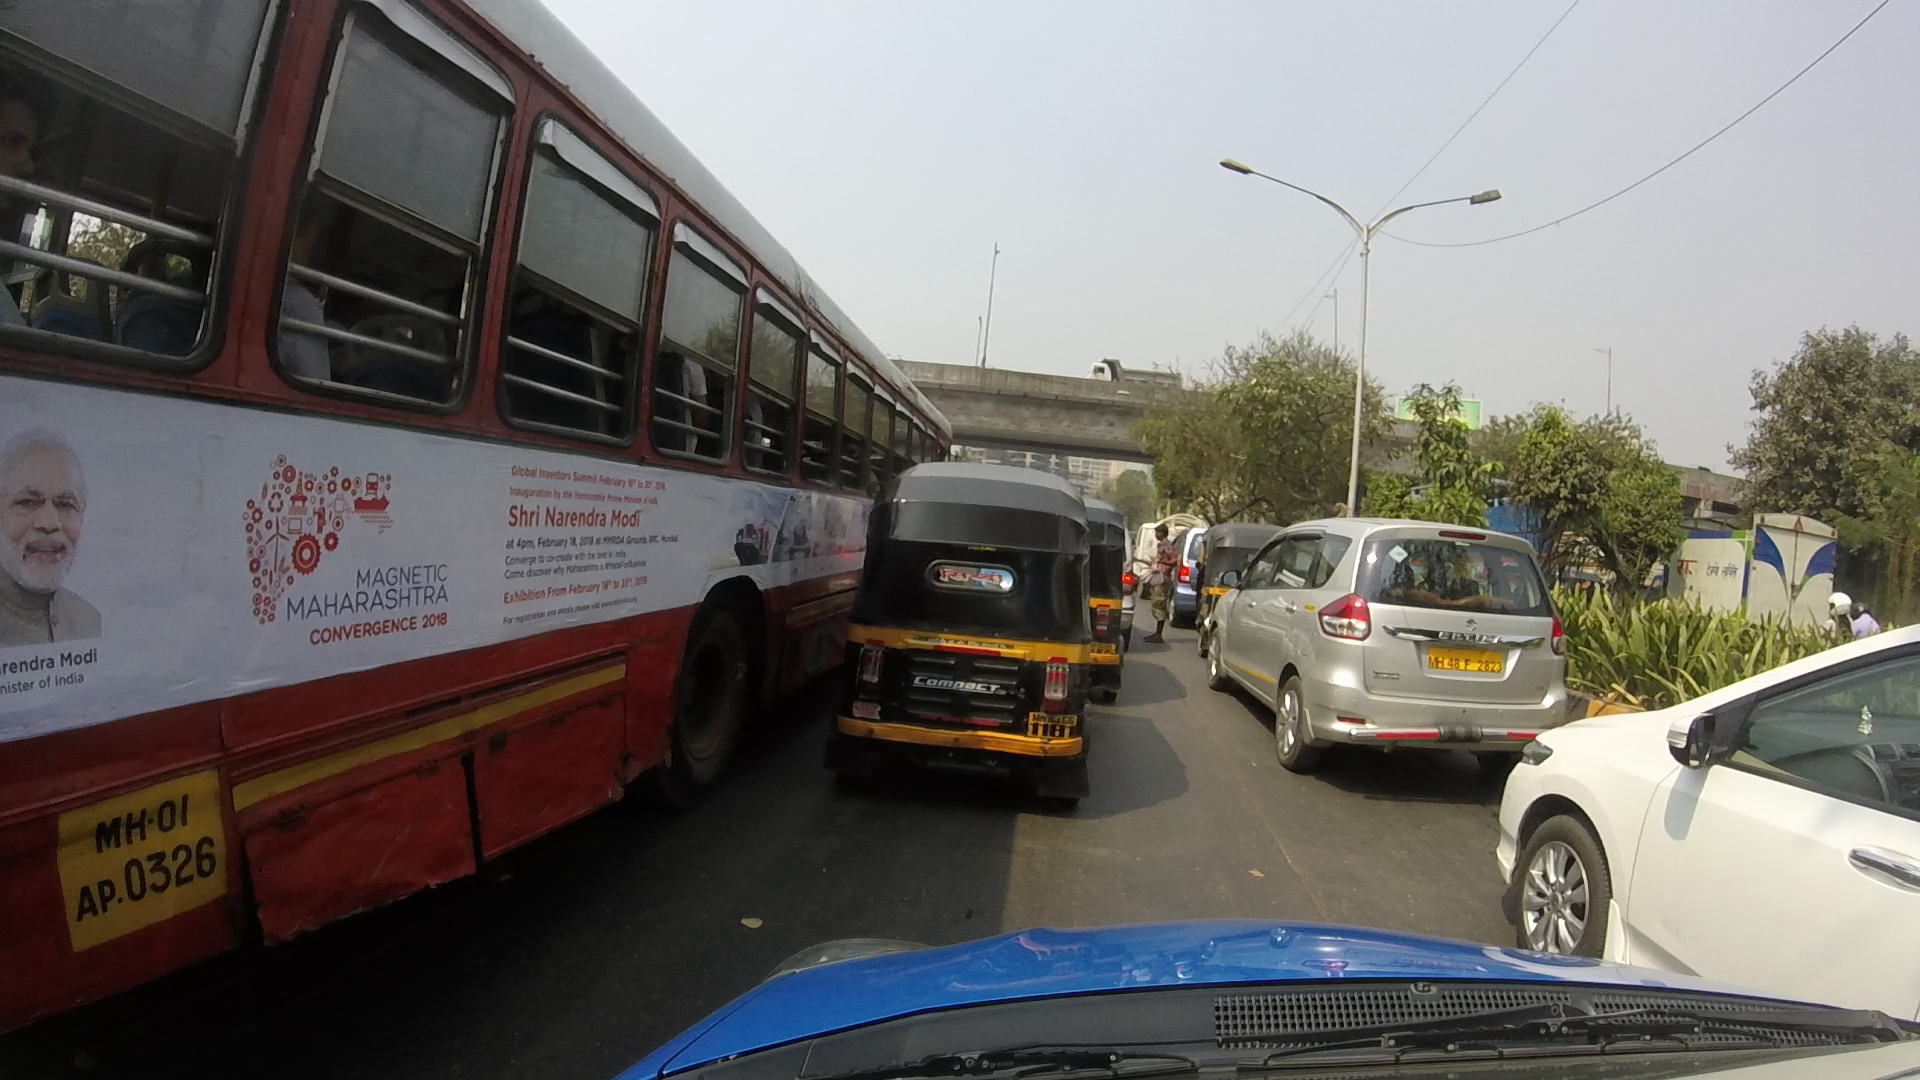bus: (11, 7, 953, 1044)
car: (1486, 642, 1920, 1027), (1212, 513, 1592, 752)
rickshaw: (822, 444, 1104, 790), (1068, 491, 1174, 692)
